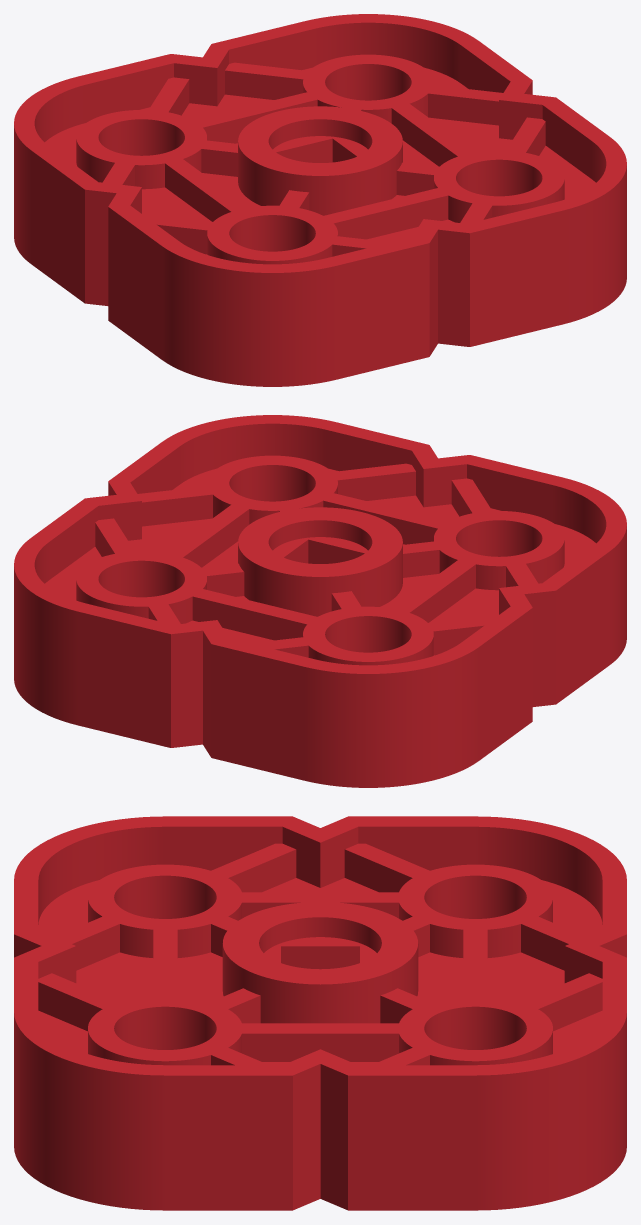
The picture shows the model from 3 angles, top to bottom: view 1: azimuth 30°, elevation 25°; view 2: azimuth 150°, elevation 25°; view 3: azimuth 270°, elevation 25°; orthographic projection. The views are drawn at different scales.
Visible parts, largest first — view 1: 228-2500-1140; view 2: 228-2500-1140; view 3: 228-2500-1140.
Boxes of the visible parts, left/top/right/bottom form: 228-2500-1140: left=14, top=14, right=626, bottom=386; 228-2500-1140: left=14, top=415, right=626, bottom=787; 228-2500-1140: left=14, top=816, right=626, bottom=1210.
Bounding box in the file's own units: 0.0251 × 0.00635 × 0.0251.
